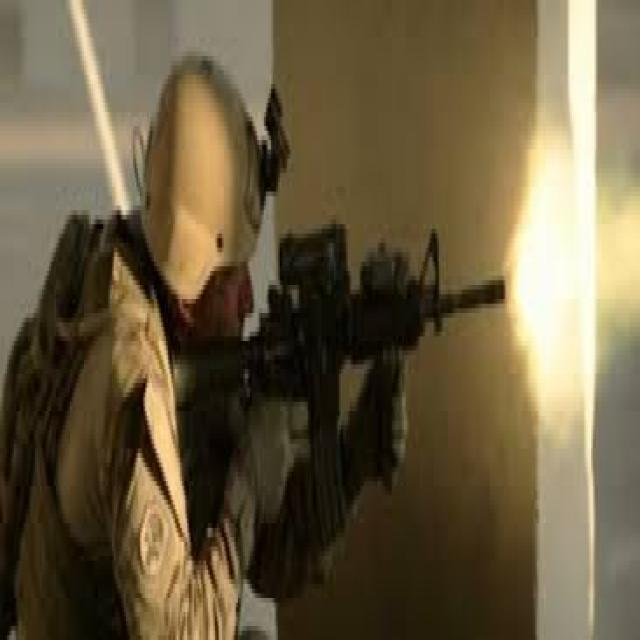weapon: (174, 230, 513, 578)
